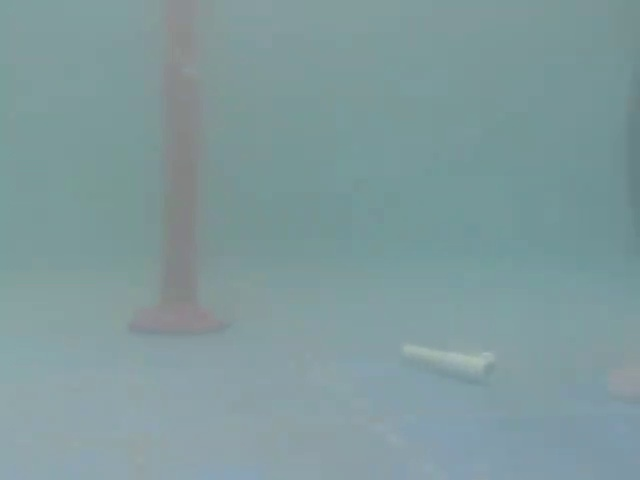flare: (121, 0, 240, 351)
